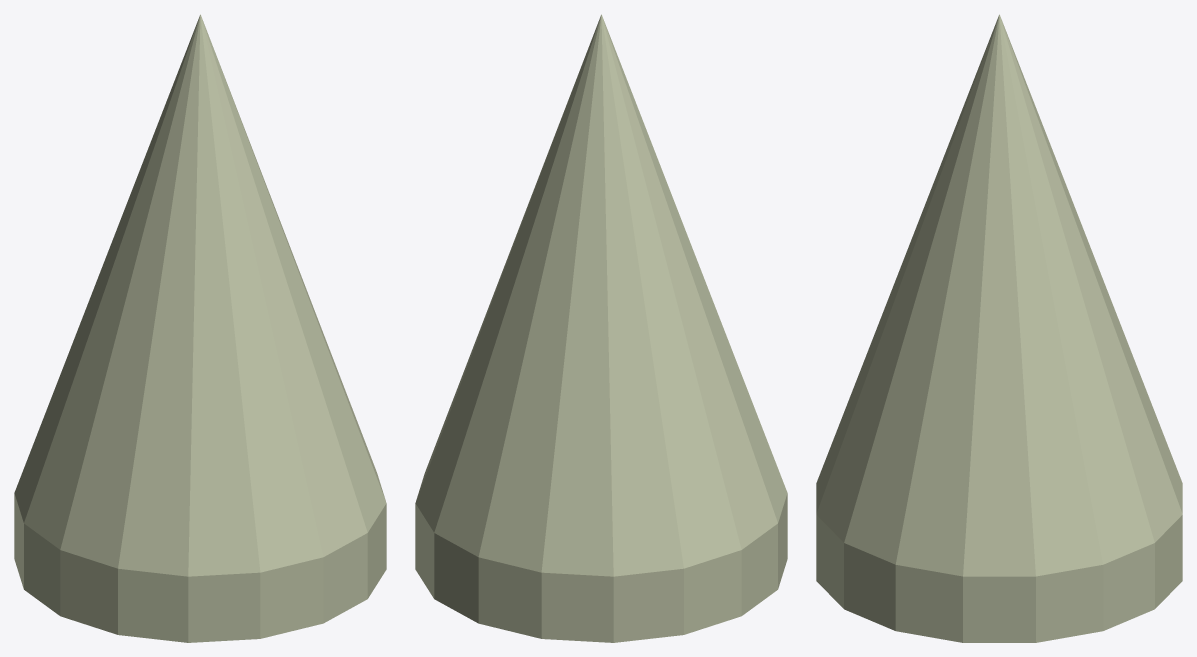
The model's file is HLV_Nose_1_Collider.obj.
3 views of the same model, side by side, from view 1: azimuth 30°, elevation 25°; view 2: azimuth 150°, elevation 25°; view 3: azimuth 270°, elevation 25° (orthographic).
Parts seen in each view (by area): view 1: HLV_Nose_1_Collider; view 2: HLV_Nose_1_Collider; view 3: HLV_Nose_1_Collider.
Boxes of the visible parts, left/top/right/bottom form: HLV_Nose_1_Collider: left=14, top=14, right=386, bottom=642; HLV_Nose_1_Collider: left=415, top=14, right=787, bottom=642; HLV_Nose_1_Collider: left=816, top=14, right=1182, bottom=642.
Bounding box in the file's own units: 2.5 × 4.15 × 2.5.
